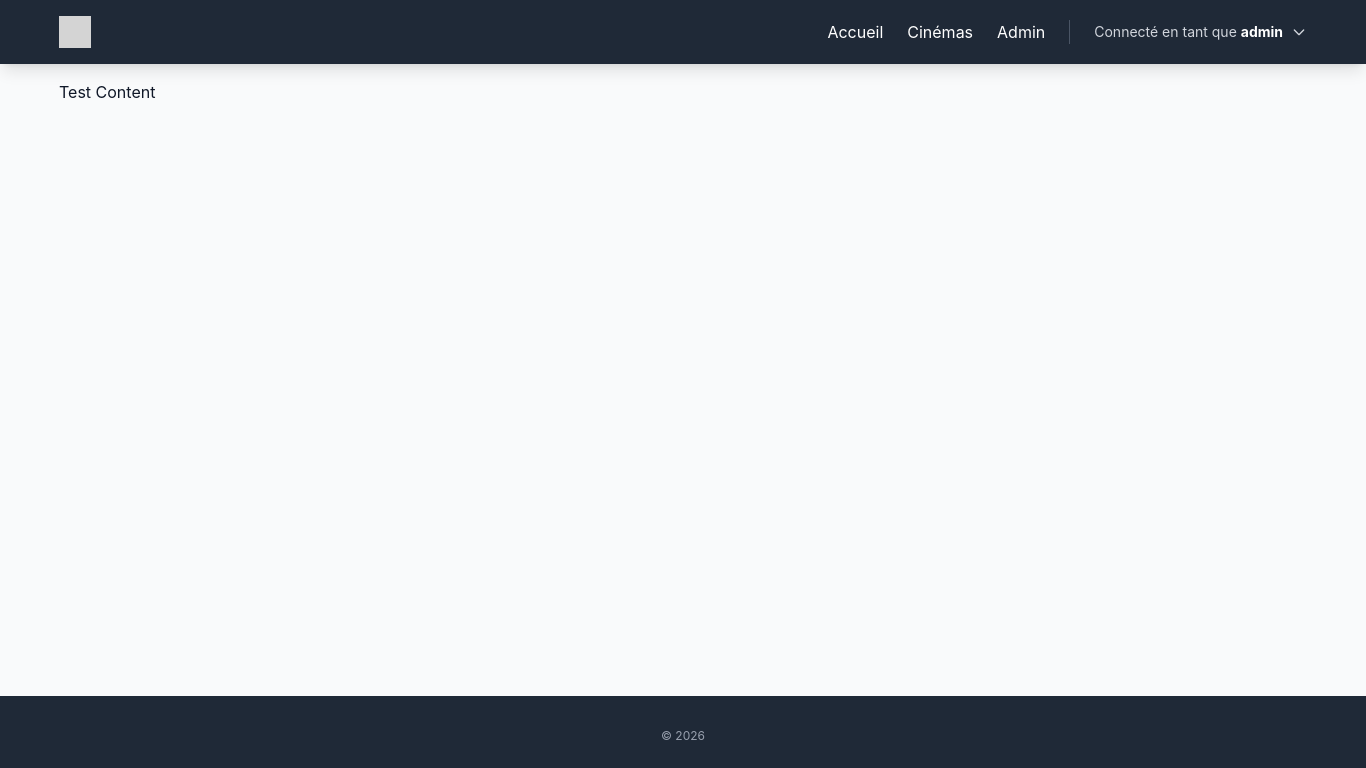
Layout - Header navigation changes › Phase 4: Remove admin links from dropdown › should still display Change Password link in dropdown
The image size is (1366, 768).
# Open dropdown
What coordinates should you click on to do the following:
click the button with test id "user-menu-button"
I would click on:
 (1201, 32)
Its box is [1094,22,1307,42].
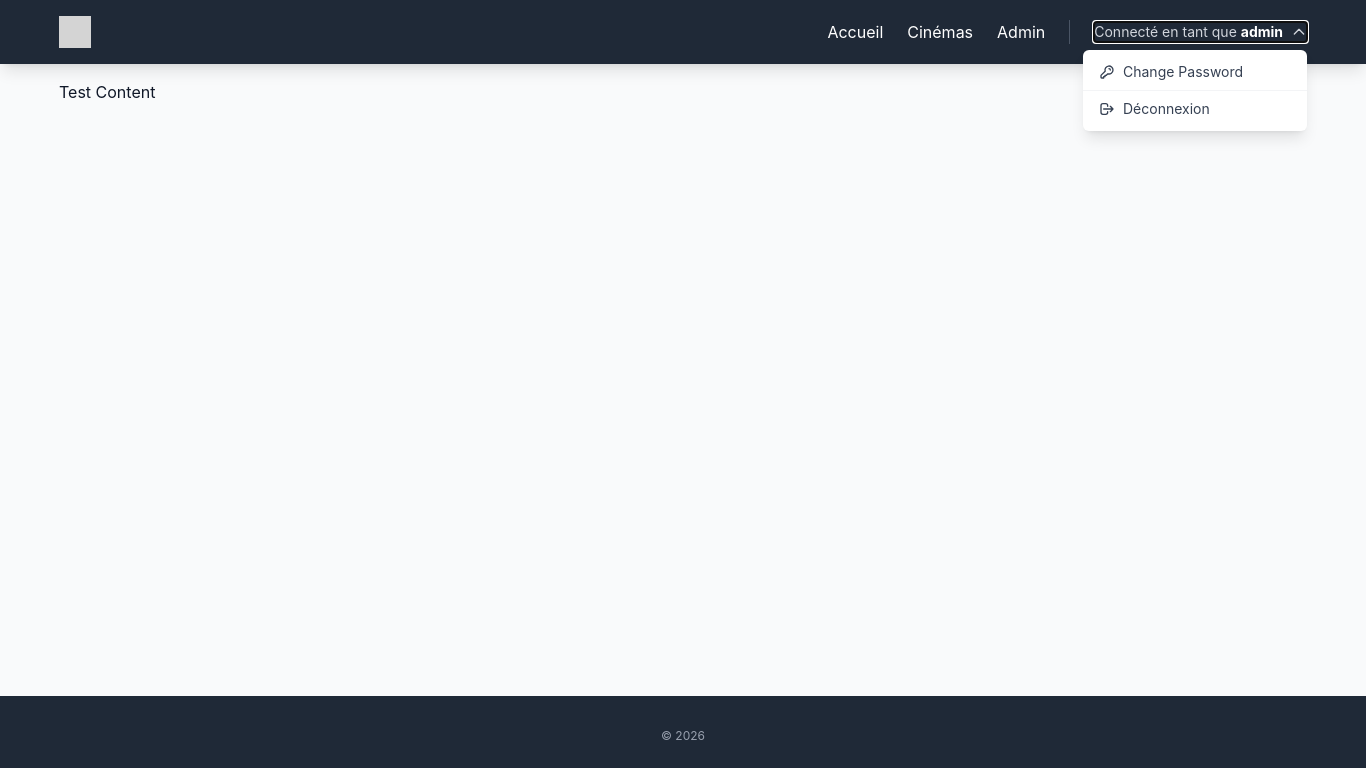
Now the link with test id "change-password-link" is shown, box [1099,63,1243,80]
